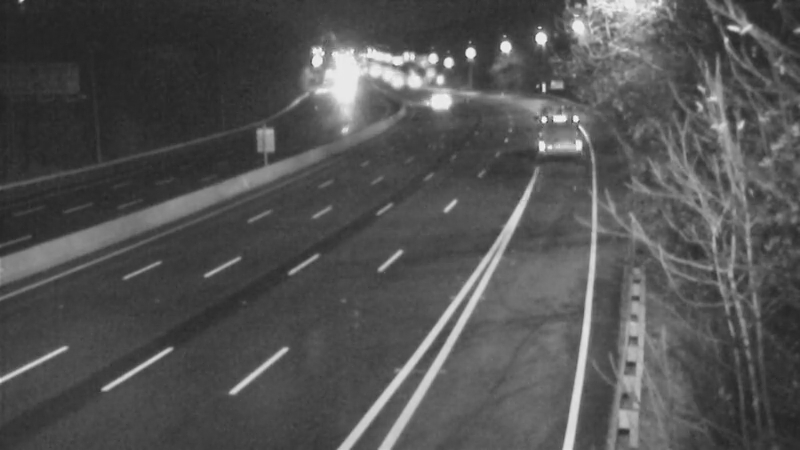vehicle: (368, 59, 418, 109), (389, 55, 439, 105), (412, 77, 462, 127), (530, 104, 580, 154), (320, 71, 370, 121)
